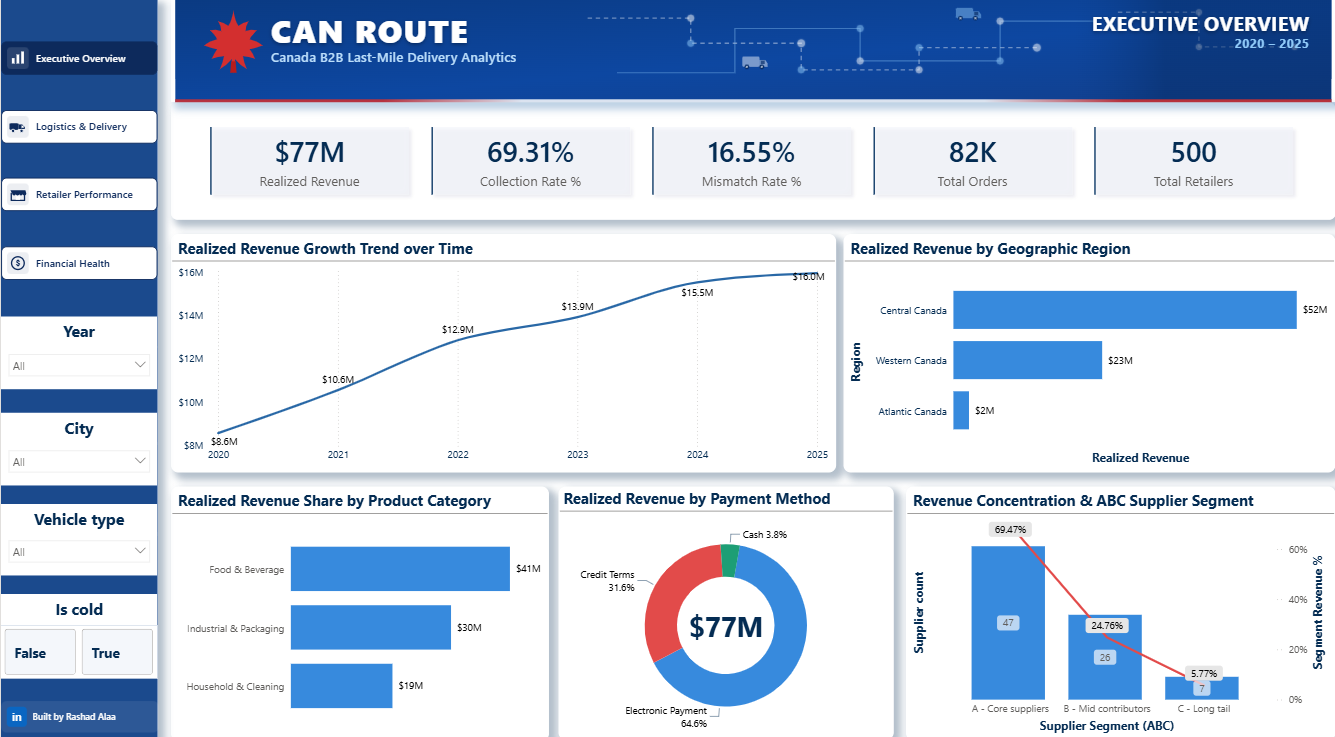

This screenshot's page, from the dashboard's own definition file:
{"tool":"powerbi","page":{"name":"Executive Overview","canvas":[1800,1000],"ordinal":0},"visuals":[{"type":"cardVisual","fields":{"Data":["Measures Table.Net Revenue","_Measures Table.Collection Rate %","_Measures Table.Mismatch Rate %","_Measures Table.Total Orders","_Measures Table.Total Custmers"]},"box":[229.6,139.1,1570,157.5],"z":0},{"type":"lineChart","title":"Realized Revenue Growth Trend over Time","fields":{"Category":["dim_date.year Hierarchy.year","dim_date._date.Month__Name"],"Y":["_Measures Table.Realized Revenue"]},"box":[229.6,310,896.5,328.4],"z":1000},{"type":"barChart","title":"Realized Revenue by Geographic Region","fields":{"Category":["dim_areas.Region","dim_areas.city"],"Y":["Measures Table.Net Revenue"]},"box":[1136.1,310,663.5,328.4],"z":2000},{"type":"clusteredBarChart","title":"Realized Revenue Share by Product Category","fields":{"Category":["dim_products.Category Group","dim_products.category"],"Y":["_Measures Table.Realized Revenue"]},"box":[229.6,656.8,509.4,343.5],"z":3000},{"type":"donutChart","title":"Realized Revenue by Payment Method","fields":{"Category":["fact_orders.Payment Group","fact_orders.payment_method"],"Y":["_Measures Table.Realized Revenue"]},"box":[752,657.5,452.3,341.5],"z":4000},{"type":"shape","box":[0,0,211.1,1000.3],"z":5000},{"type":"advancedSlicerVisual","fields":{"Values":["dim_areas.is_cold"]},"box":[-0.4,844.7,211.1,72.1],"z":6000},{"type":"slicer","fields":{"Values":["dim_areas.city"]},"box":[0.3,599.1,210.7,57.3],"z":7000},{"type":"textbox","box":[0.3,558.4,210.7,42.1],"z":8000},{"type":"textbox","box":[0.3,427.5,210.7,42.1],"z":9000},{"type":"slicer","fields":{"Values":["dim_date.year"]},"box":[0.3,469.2,210.7,57.3],"z":10000},{"type":"textbox","box":[-0.4,803,210.7,42.1],"z":11000},{"type":"lineClusteredColumnComboChart","title":"Revenue Concentration & ABC Supplier Segment","fields":{"Category":["dim_suppliers.Supplier Segment (ABC)"],"Y":["_Measures Table.Supplier count"],"Y2":["dim_suppliers.Segment Revenue %"]},"box":[1220.8,656.8,579.2,342.8],"z":12000},{"type":"image","box":[229.6,0,1570,139.1],"z":13000},{"type":"image","box":[0,33.5,211.1,92.2],"z":14000},{"type":"image","box":[0,125.7,211.1,92.2],"z":15000},{"type":"image","box":[0,217.8,211.1,92.2],"z":16000},{"type":"image","box":[0,310,211.1,92.2],"z":17000},{"type":"image","box":[0,935,212.8,65.3],"z":18000},{"type":"slicer","fields":{"Values":["dim_drivers.vehicle_type"]},"box":[0.7,718.8,210.7,57.3],"z":19000},{"type":"textbox","box":[0.7,680.3,210.7,42.1],"z":20000}]}

Visuals, with their boxes on the page's 1800x1000 design canvas (x1, y1, x2, y2). These are canvas units, not pixel positions in the 1335x737 screenshot, which may show the page scaled, cropped or inside an application window:
cardVisual - Measures Table.Net Revenue x _Measures Table.Collection Rate %: x1=230 y1=139 x2=1800 y2=297
"Realized Revenue Growth Trend over Time" lineChart: x1=230 y1=310 x2=1126 y2=638
"Realized Revenue by Geographic Region" barChart: x1=1136 y1=310 x2=1800 y2=638
"Realized Revenue Share by Product Category" clusteredBarChart: x1=230 y1=657 x2=739 y2=1000
"Realized Revenue by Payment Method" donutChart: x1=752 y1=658 x2=1204 y2=999
shape: x1=0 y1=0 x2=211 y2=1000
advancedSlicerVisual - dim_areas.is_cold: x1=0 y1=845 x2=211 y2=917
slicer - dim_areas.city: x1=0 y1=599 x2=211 y2=656
textbox: x1=0 y1=558 x2=211 y2=600
textbox: x1=0 y1=428 x2=211 y2=470
slicer - dim_date.year: x1=0 y1=469 x2=211 y2=526
textbox: x1=0 y1=803 x2=210 y2=845
"Revenue Concentration & ABC Supplier Segment" lineClusteredColumnComboChart: x1=1221 y1=657 x2=1800 y2=1000
image: x1=230 y1=0 x2=1800 y2=139
image: x1=0 y1=34 x2=211 y2=126
image: x1=0 y1=126 x2=211 y2=218
image: x1=0 y1=218 x2=211 y2=310
image: x1=0 y1=310 x2=211 y2=402
image: x1=0 y1=935 x2=213 y2=1000
slicer - dim_drivers.vehicle_type: x1=1 y1=719 x2=211 y2=776
textbox: x1=1 y1=680 x2=211 y2=722
